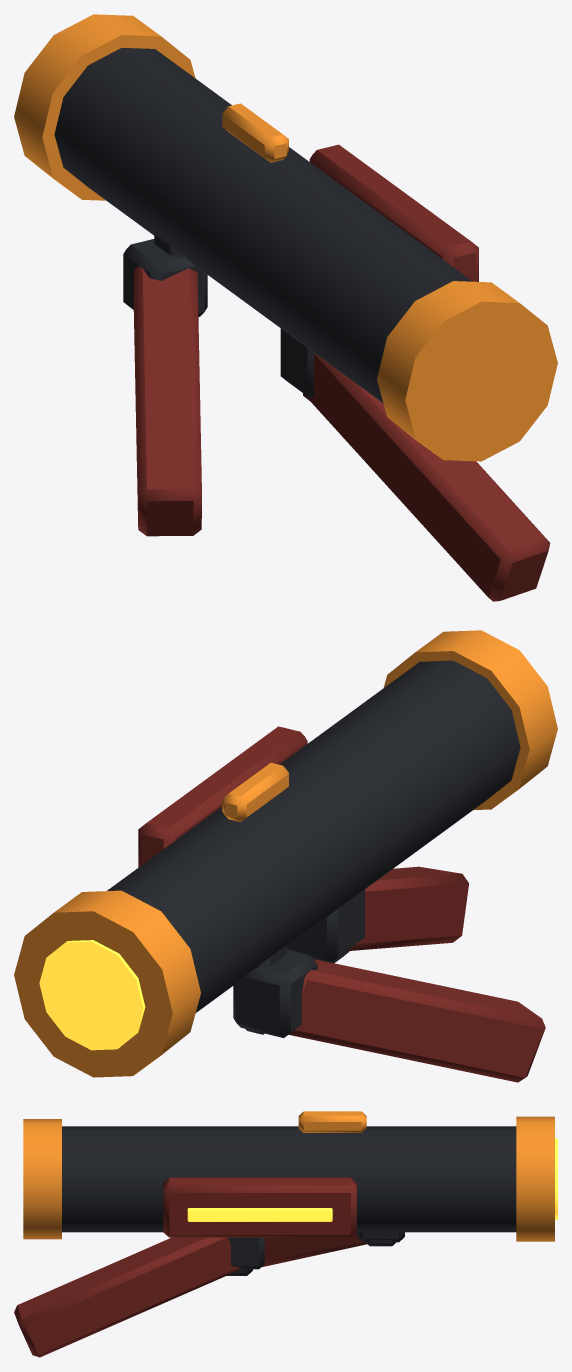
File: weapon_ember.glb
3 views of the same model, one above another, from view 1: azimuth 30°, elevation 25°; view 2: azimuth 150°, elevation 25°; view 3: azimuth 270°, elevation 25° (orthographic). The views are drawn at different scales.
Parts seen in each view (by area): view 1: weapon; view 2: weapon; view 3: weapon.
Boxes of the visible parts, x1,y1,x2,y2 form: weapon: (14,14,557,601); weapon: (14,630,557,1082); weapon: (14,1111,557,1357).
Size of the model in its own units: 0.5113 by 0.5114 by 1.13.
